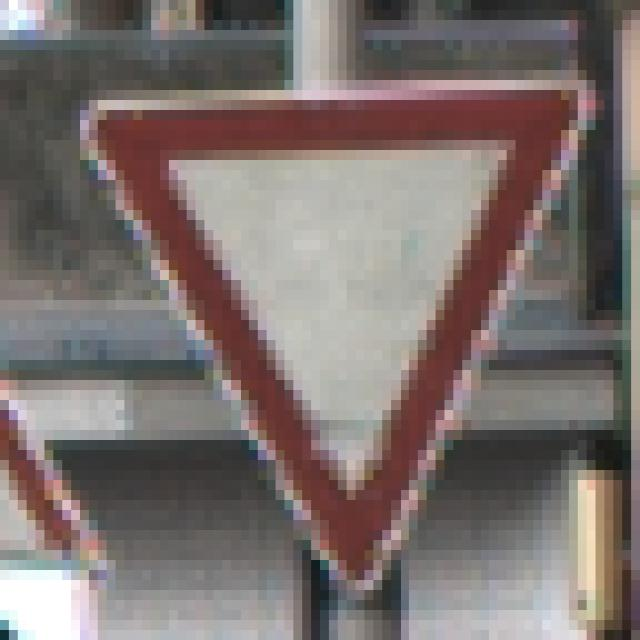Give Way: (63, 51, 588, 591)
